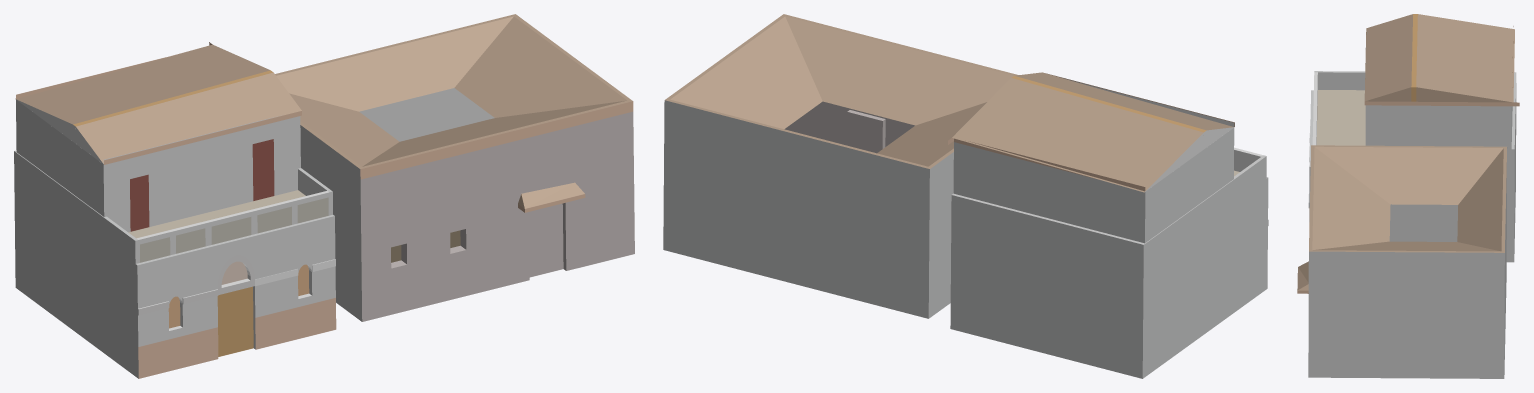
File: casasRomanas.glb
3 renders of one model, left to right at view 1: azimuth 30°, elevation 25°; view 2: azimuth 150°, elevation 25°; view 3: azimuth 270°, elevation 25°, orthographic. The views are drawn at different scales.
Visible parts, largest first — view 1: node_d2bc8f58_6422_4485_b6b8_b64912bc6fd5_mesh0, node_ebc08f00_c372_48f8_a10a_3837433b230e_mesh0, node_230eca27_ac16_4f65_aad0_b9b9df23aefa_mesh0, node_afbd29ae_10fe_45a9_90a6_0c04a5a666a9_mesh0, node_fe0c9d5f_fb52_479c_9458_aa3d467edf62_mesh0, node_2f2ab670_ca29_4041_86f1_b57f2362dccc_mesh0, node_a633fb50_8324_431c_bb8f_635430f06599_mesh0, node_f0f95ee4_2922_41e4_9f98_3da4509d4bd2_mesh0, node_b543262d_2587_492c_8a12_ce2b7aef0f9d_mesh0, node_08b34a28_5b67_42d2_a00a_1042678336ce_mesh0, node_392c7af3_3f3d_4272_b8e6_555966f2487a_mesh0, node_7cbc7dfe_cf18_41a3_a2ce_80a964f6e224_mesh0 (+24 smaller); view 2: node_392c7af3_3f3d_4272_b8e6_555966f2487a_mesh0, node_8efc6f8b_029f_4db9_b269_0ee51238da66_mesh0, node_ebc08f00_c372_48f8_a10a_3837433b230e_mesh0, node_a633fb50_8324_431c_bb8f_635430f06599_mesh0, node_43e2ab03_4512_4025_971f_cb4aba22f1ad_mesh0, node_04634248_2f2b_42f9_acaa_d83cffa8d63d_mesh0, node_fe0c9d5f_fb52_479c_9458_aa3d467edf62_mesh0, node_08b34a28_5b67_42d2_a00a_1042678336ce_mesh0, node_b543262d_2587_492c_8a12_ce2b7aef0f9d_mesh0, node_7cbc7dfe_cf18_41a3_a2ce_80a964f6e224_mesh0, node_2f2ab670_ca29_4041_86f1_b57f2362dccc_mesh0, node_d2bc8f58_6422_4485_b6b8_b64912bc6fd5_mesh0 (+6 smaller); view 3: node_9d1770bf_e623_4a38_95ed_b245d0f6b942_mesh0, node_7cbc7dfe_cf18_41a3_a2ce_80a964f6e224_mesh0, node_a633fb50_8324_431c_bb8f_635430f06599_mesh0, node_6e8736f9_a415_4416_9d6b_a97e8a2de1a8_mesh0, node_43e2ab03_4512_4025_971f_cb4aba22f1ad_mesh0, node_2f2ab670_ca29_4041_86f1_b57f2362dccc_mesh0, node_afbd29ae_10fe_45a9_90a6_0c04a5a666a9_mesh0, node_e0795269_35ba_4538_8665_41619419250b_mesh0, node_b543262d_2587_492c_8a12_ce2b7aef0f9d_mesh0, node_bdfb29dd_404f_41b1_b9b4_1ded5a4f5012_mesh0, node_fe0c9d5f_fb52_479c_9458_aa3d467edf62_mesh0, node_ef26196d_2bef_4309_9d81_805fc36775cb_mesh0 (+10 smaller).
Part boxes in pixels (<box>): node_d2bc8f58_6422_4485_b6b8_b64912bc6fd5_mesh0: <box>360,111,634,321</box>; node_ebc08f00_c372_48f8_a10a_3837433b230e_mesh0: <box>14,151,138,378</box>; node_230eca27_ac16_4f65_aad0_b9b9df23aefa_mesh0: <box>103,116,300,232</box>; node_afbd29ae_10fe_45a9_90a6_0c04a5a666a9_mesh0: <box>276,16,513,111</box>; node_fe0c9d5f_fb52_479c_9458_aa3d467edf62_mesh0: <box>454,16,626,117</box>; node_2f2ab670_ca29_4041_86f1_b57f2362dccc_mesh0: <box>76,72,301,163</box>; node_a633fb50_8324_431c_bb8f_635430f06599_mesh0: <box>15,44,269,124</box>; node_f0f95ee4_2922_41e4_9f98_3da4509d4bd2_mesh0: <box>137,216,335,308</box>; node_b543262d_2587_492c_8a12_ce2b7aef0f9d_mesh0: <box>300,125,362,321</box>; node_08b34a28_5b67_42d2_a00a_1042678336ce_mesh0: <box>16,100,104,216</box>; node_392c7af3_3f3d_4272_b8e6_555966f2487a_mesh0: <box>359,88,494,141</box>; node_7cbc7dfe_cf18_41a3_a2ce_80a964f6e224_mesh0: <box>289,93,399,166</box>; node_392c7af3_3f3d_4272_b8e6_555966f2487a_mesh0: <box>663,100,929,318</box>; node_8efc6f8b_029f_4db9_b269_0ee51238da66_mesh0: <box>950,195,1143,378</box>; node_ebc08f00_c372_48f8_a10a_3837433b230e_mesh0: <box>1142,156,1268,378</box>; node_a633fb50_8324_431c_bb8f_635430f06599_mesh0: <box>952,78,1203,192</box>; node_43e2ab03_4512_4025_971f_cb4aba22f1ad_mesh0: <box>785,16,1013,125</box>; node_04634248_2f2b_42f9_acaa_d83cffa8d63d_mesh0: <box>953,142,1145,243</box>; node_fe0c9d5f_fb52_479c_9458_aa3d467edf62_mesh0: <box>670,16,822,128</box>; node_08b34a28_5b67_42d2_a00a_1042678336ce_mesh0: <box>1145,128,1234,242</box>; node_b543262d_2587_492c_8a12_ce2b7aef0f9d_mesh0: <box>928,152,953,318</box>; node_7cbc7dfe_cf18_41a3_a2ce_80a964f6e224_mesh0: <box>877,102,986,166</box>; node_2f2ab670_ca29_4041_86f1_b57f2362dccc_mesh0: <box>1015,72,1233,130</box>; node_d2bc8f58_6422_4485_b6b8_b64912bc6fd5_mesh0: <box>784,101,914,146</box>; node_9d1770bf_e623_4a38_95ed_b245d0f6b942_mesh0: <box>1308,251,1504,378</box>; node_7cbc7dfe_cf18_41a3_a2ce_80a964f6e224_mesh0: <box>1315,146,1503,204</box>; node_a633fb50_8324_431c_bb8f_635430f06599_mesh0: <box>1416,14,1514,102</box>; node_6e8736f9_a415_4416_9d6b_a97e8a2de1a8_mesh0: <box>1365,105,1511,149</box>; node_43e2ab03_4512_4025_971f_cb4aba22f1ad_mesh0: <box>1312,147,1390,249</box>; node_2f2ab670_ca29_4041_86f1_b57f2362dccc_mesh0: <box>1364,14,1412,101</box>; node_afbd29ae_10fe_45a9_90a6_0c04a5a666a9_mesh0: <box>1457,148,1503,251</box>; node_e0795269_35ba_4538_8665_41619419250b_mesh0: <box>1316,90,1365,145</box>; node_b543262d_2587_492c_8a12_ce2b7aef0f9d_mesh0: <box>1389,204,1457,241</box>; node_bdfb29dd_404f_41b1_b9b4_1ded5a4f5012_mesh0: <box>1309,145,1506,252</box>; node_fe0c9d5f_fb52_479c_9458_aa3d467edf62_mesh0: <box>1313,241,1499,251</box>; node_ef26196d_2bef_4309_9d81_805fc36775cb_mesh0: <box>1308,149,1514,262</box>.
Bounding box in the file's own units: 2.39 × 0.9825 × 1.12.
